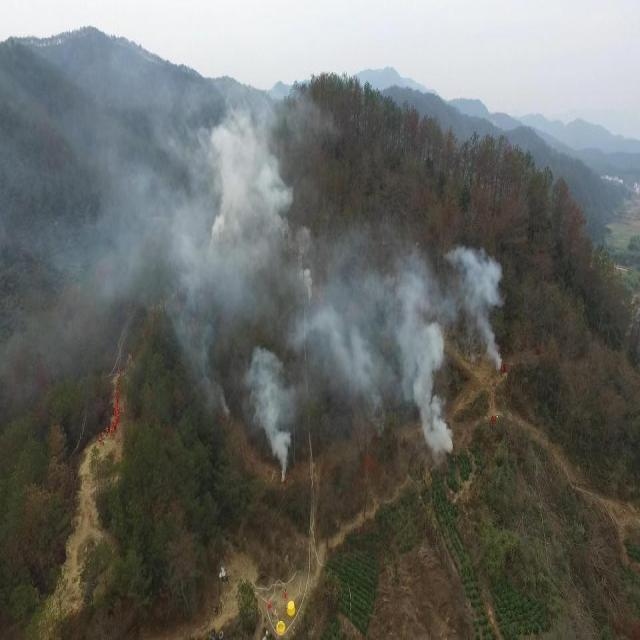Smoke: (122, 0, 504, 482)
